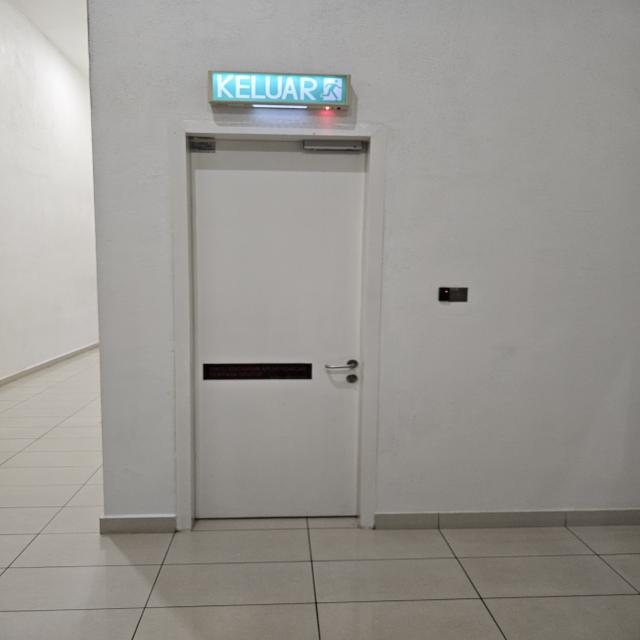door: (169, 120, 388, 530)
